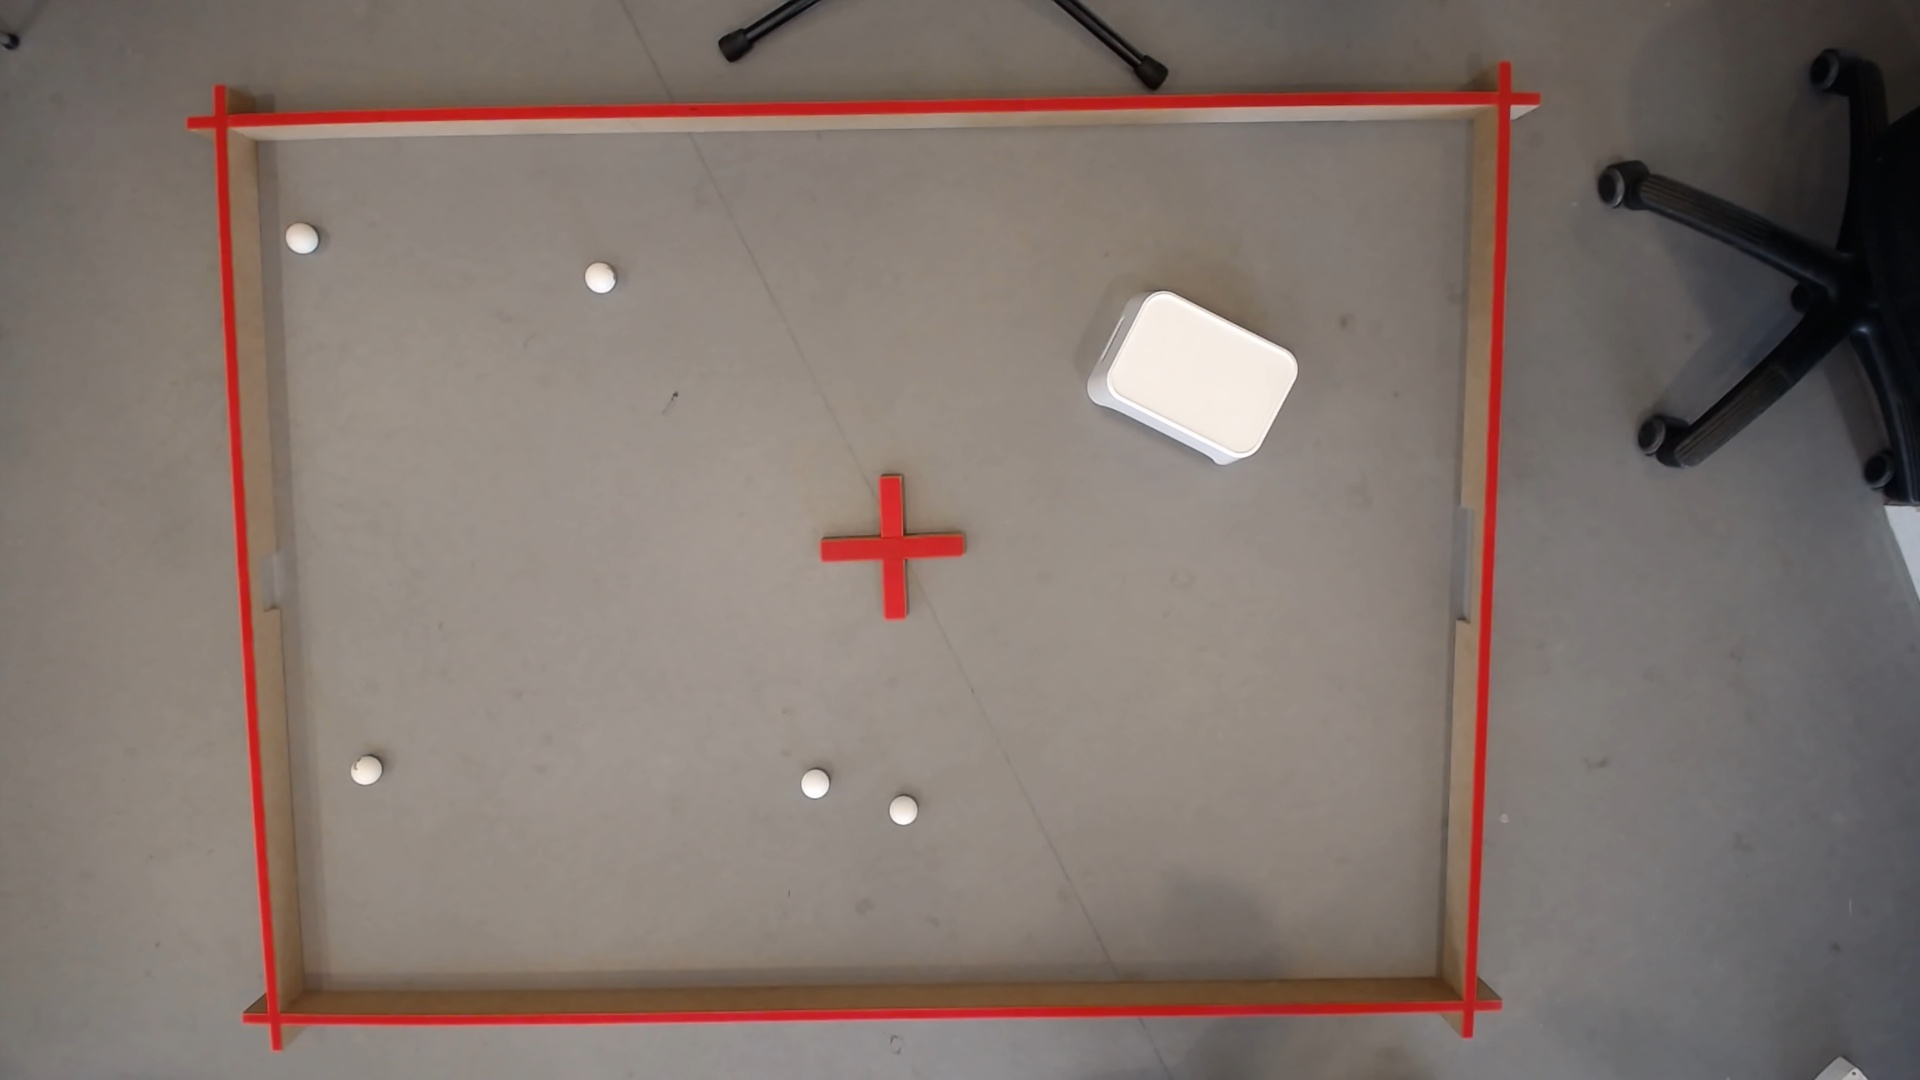balls: (1084, 277, 1305, 479), (794, 764, 833, 803), (579, 258, 618, 297), (280, 222, 320, 257)
car: (886, 798, 918, 827)
